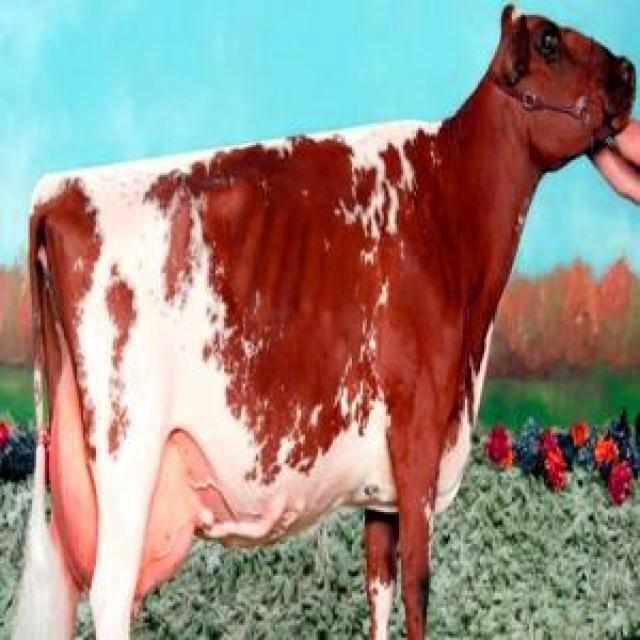cow: (12, 8, 640, 640)
